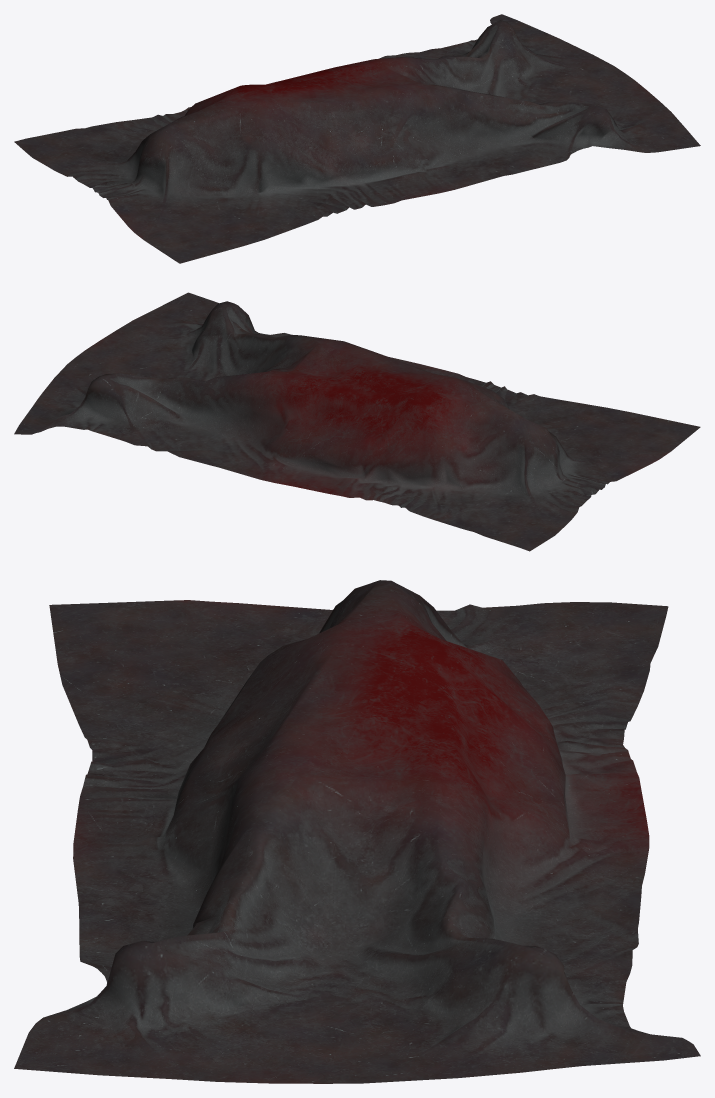
The model's file is cadaver_1.obj.
3 views of the same model, one above another, from view 1: azimuth 30°, elevation 25°; view 2: azimuth 150°, elevation 25°; view 3: azimuth 270°, elevation 25° (orthographic). The views are drawn at different scales.
Visible parts, largest first — view 1: DeadBodyCovered; view 2: DeadBodyCovered; view 3: DeadBodyCovered.
Boxes of the visible parts, x1,y1,x2,y2 form: DeadBodyCovered: (14,14,700,263); DeadBodyCovered: (14,292,700,551); DeadBodyCovered: (14,580,700,1083).
Bounding box in the file's own units: 2.43 × 0.2823 × 1.46.
Materials: 1 (1 with a texture image).
